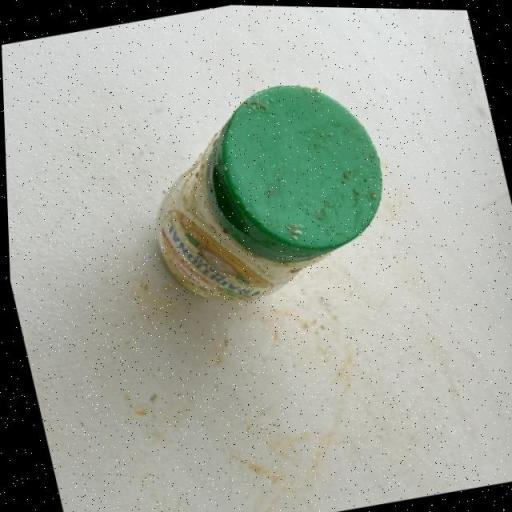plastic: (124, 63, 406, 317)
